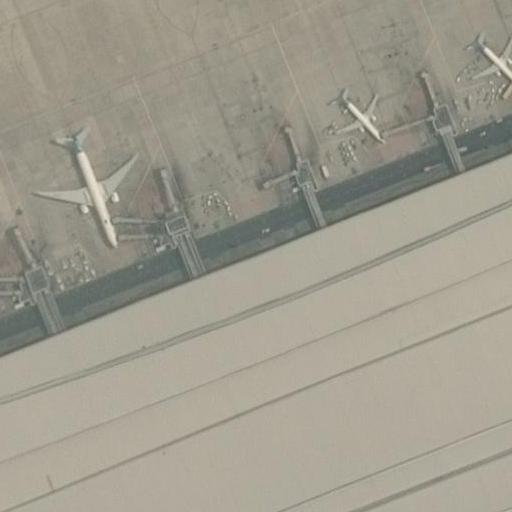Aircraft: (35, 129, 151, 245), (328, 87, 389, 145), (458, 33, 512, 92)
